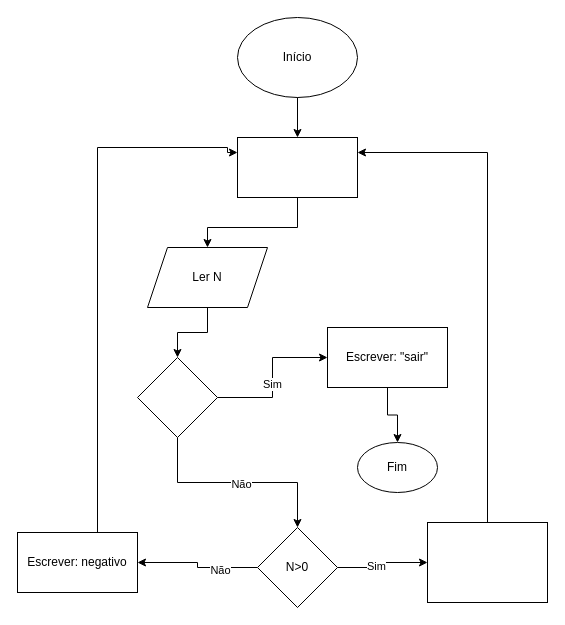
Image size: 565x625. Some labels were removed from this diagram. The shapes that lost their labels are listed below. From the top down, each one's centre as x and y in pixels, then its label:
At [297,167]: "Pedir número".
At [177,397]: "N=0".
At [487,562]: "Escrever: positivo".
